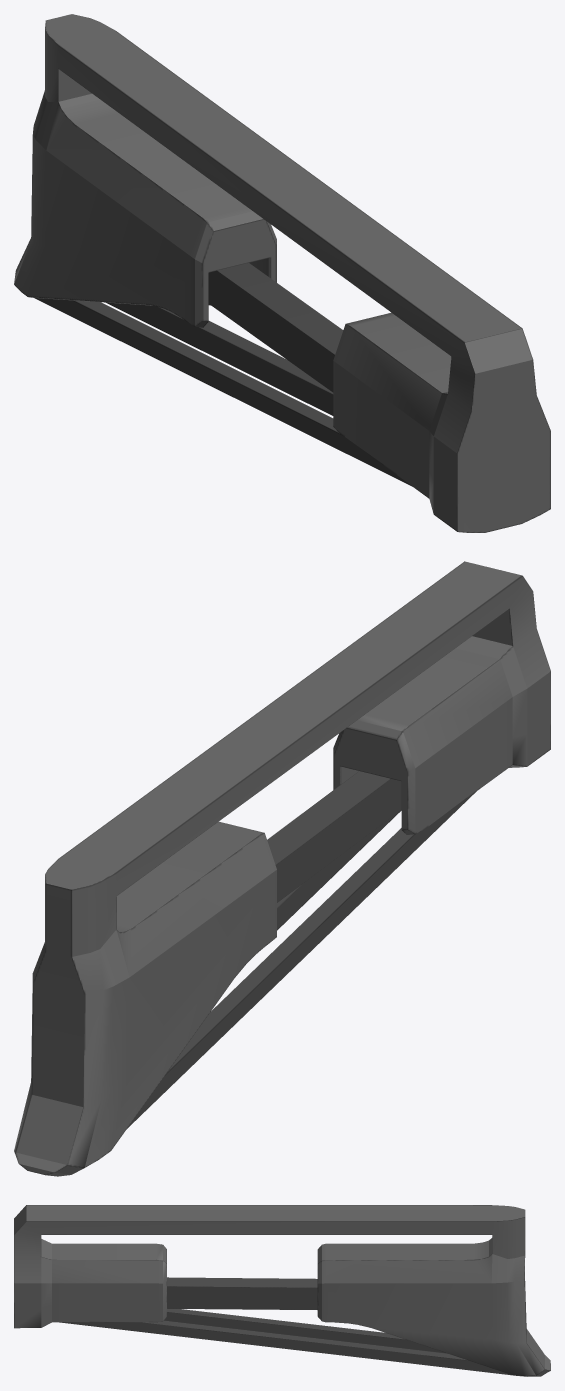
File: Rifle_HT01_Stock.fbx
3 views of the same model, one above another, from view 1: azimuth 30°, elevation 25°; view 2: azimuth 150°, elevation 25°; view 3: azimuth 270°, elevation 25° (orthographic). The views are drawn at different scales.
Parts seen in each view (by area): view 1: Butt_HT01; view 2: Butt_HT01; view 3: Butt_HT01.
Part boxes in pixels (left/top/right/bottom): Butt_HT01: left=14, top=14, right=550, bottom=532; Butt_HT01: left=14, top=561, right=550, bottom=1176; Butt_HT01: left=14, top=1205, right=550, bottom=1376.
Bounding box in the file's own units: 14.51 × 40.97 × 126.
